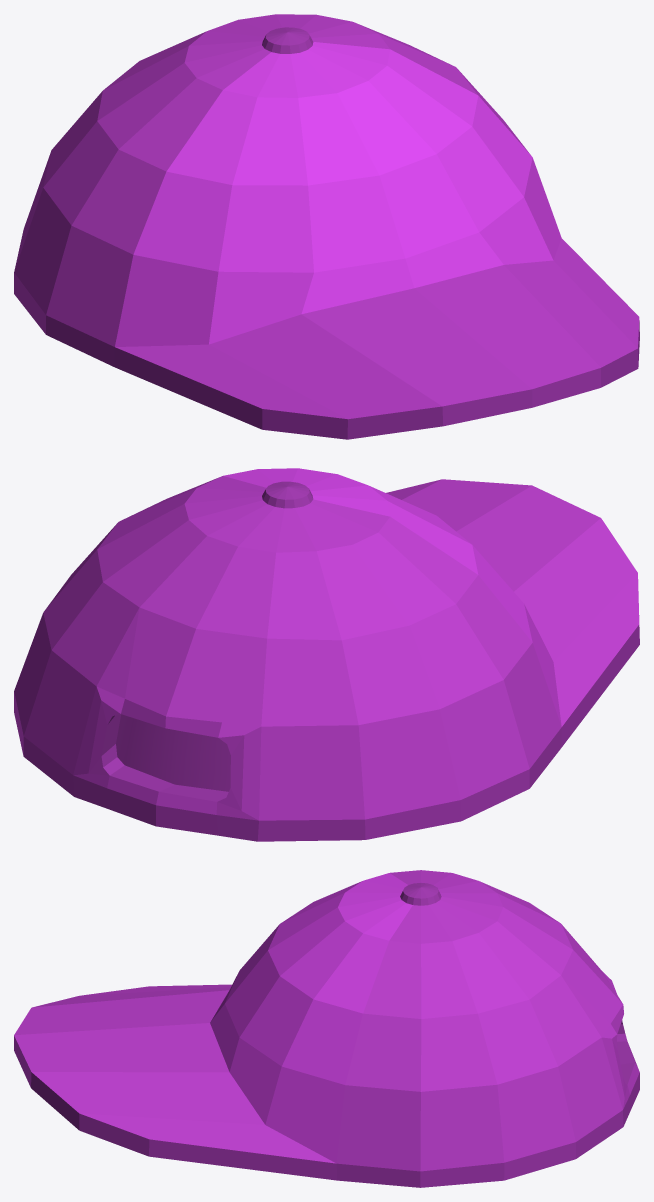
The model's file is SR_Cap_Purle.fbx.
3 views of the same model, one above another, from view 1: azimuth 30°, elevation 25°; view 2: azimuth 150°, elevation 25°; view 3: azimuth 270°, elevation 25° (orthographic). The views are drawn at different scales.
Visible parts, largest first — view 1: SR_Cap_Purple; view 2: SR_Cap_Purple; view 3: SR_Cap_Purple.
Boxes of the visible parts, x1,y1,x2,y2 form: SR_Cap_Purple: (14, 14, 639, 439); SR_Cap_Purple: (14, 468, 639, 841); SR_Cap_Purple: (14, 870, 639, 1187).
Size of the model in its own units: 131 by 63.17 by 177.
